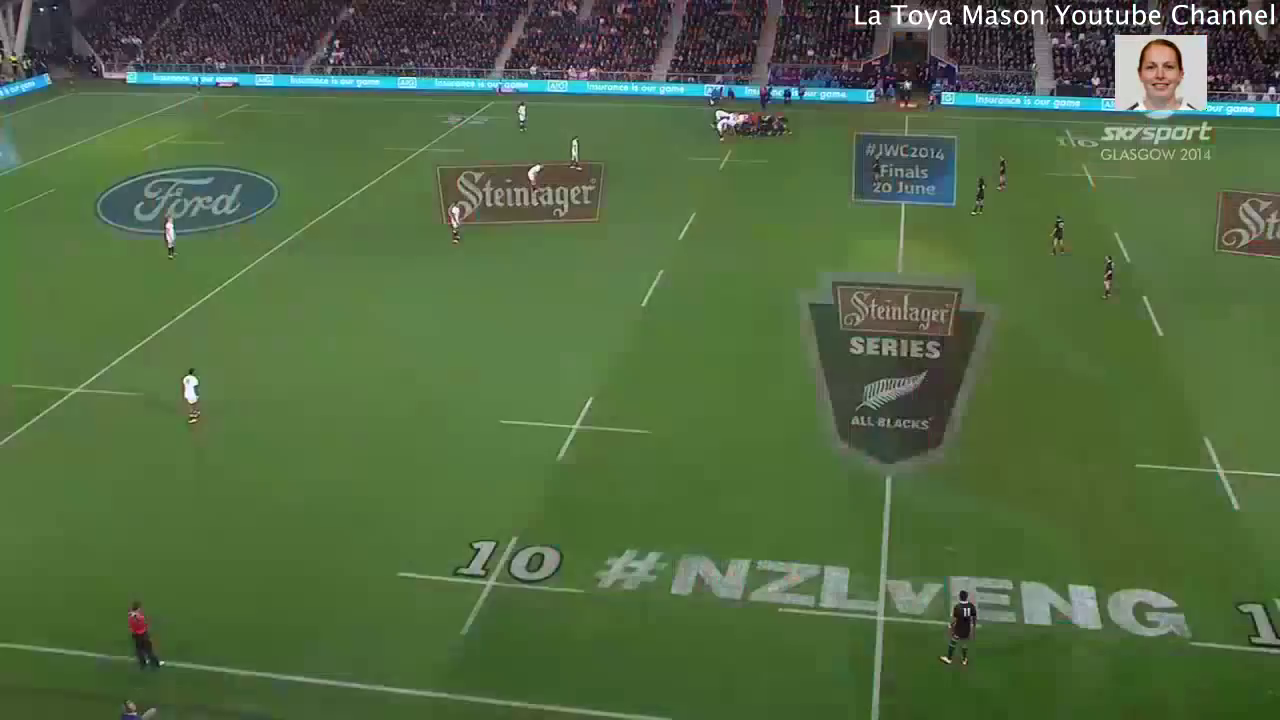10_metre: (387, 520, 588, 645), (1131, 429, 1280, 517), (492, 388, 664, 464), (1183, 584, 1280, 665), (1042, 159, 1143, 191), (678, 146, 777, 176), (1032, 125, 1124, 157)
player: (934, 587, 979, 672), (169, 352, 211, 429), (157, 203, 187, 262), (439, 199, 467, 252), (563, 133, 592, 178), (1095, 252, 1117, 310), (965, 173, 990, 223), (1046, 210, 1069, 259), (524, 156, 546, 199), (992, 150, 1011, 198), (513, 96, 532, 142), (865, 153, 885, 189), (714, 116, 730, 144)
scrum: (704, 111, 796, 140)
